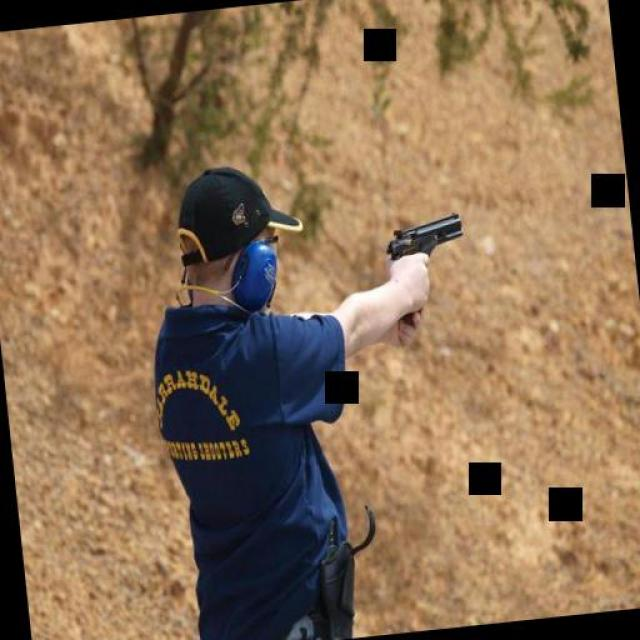gun: (383, 208, 468, 264)
